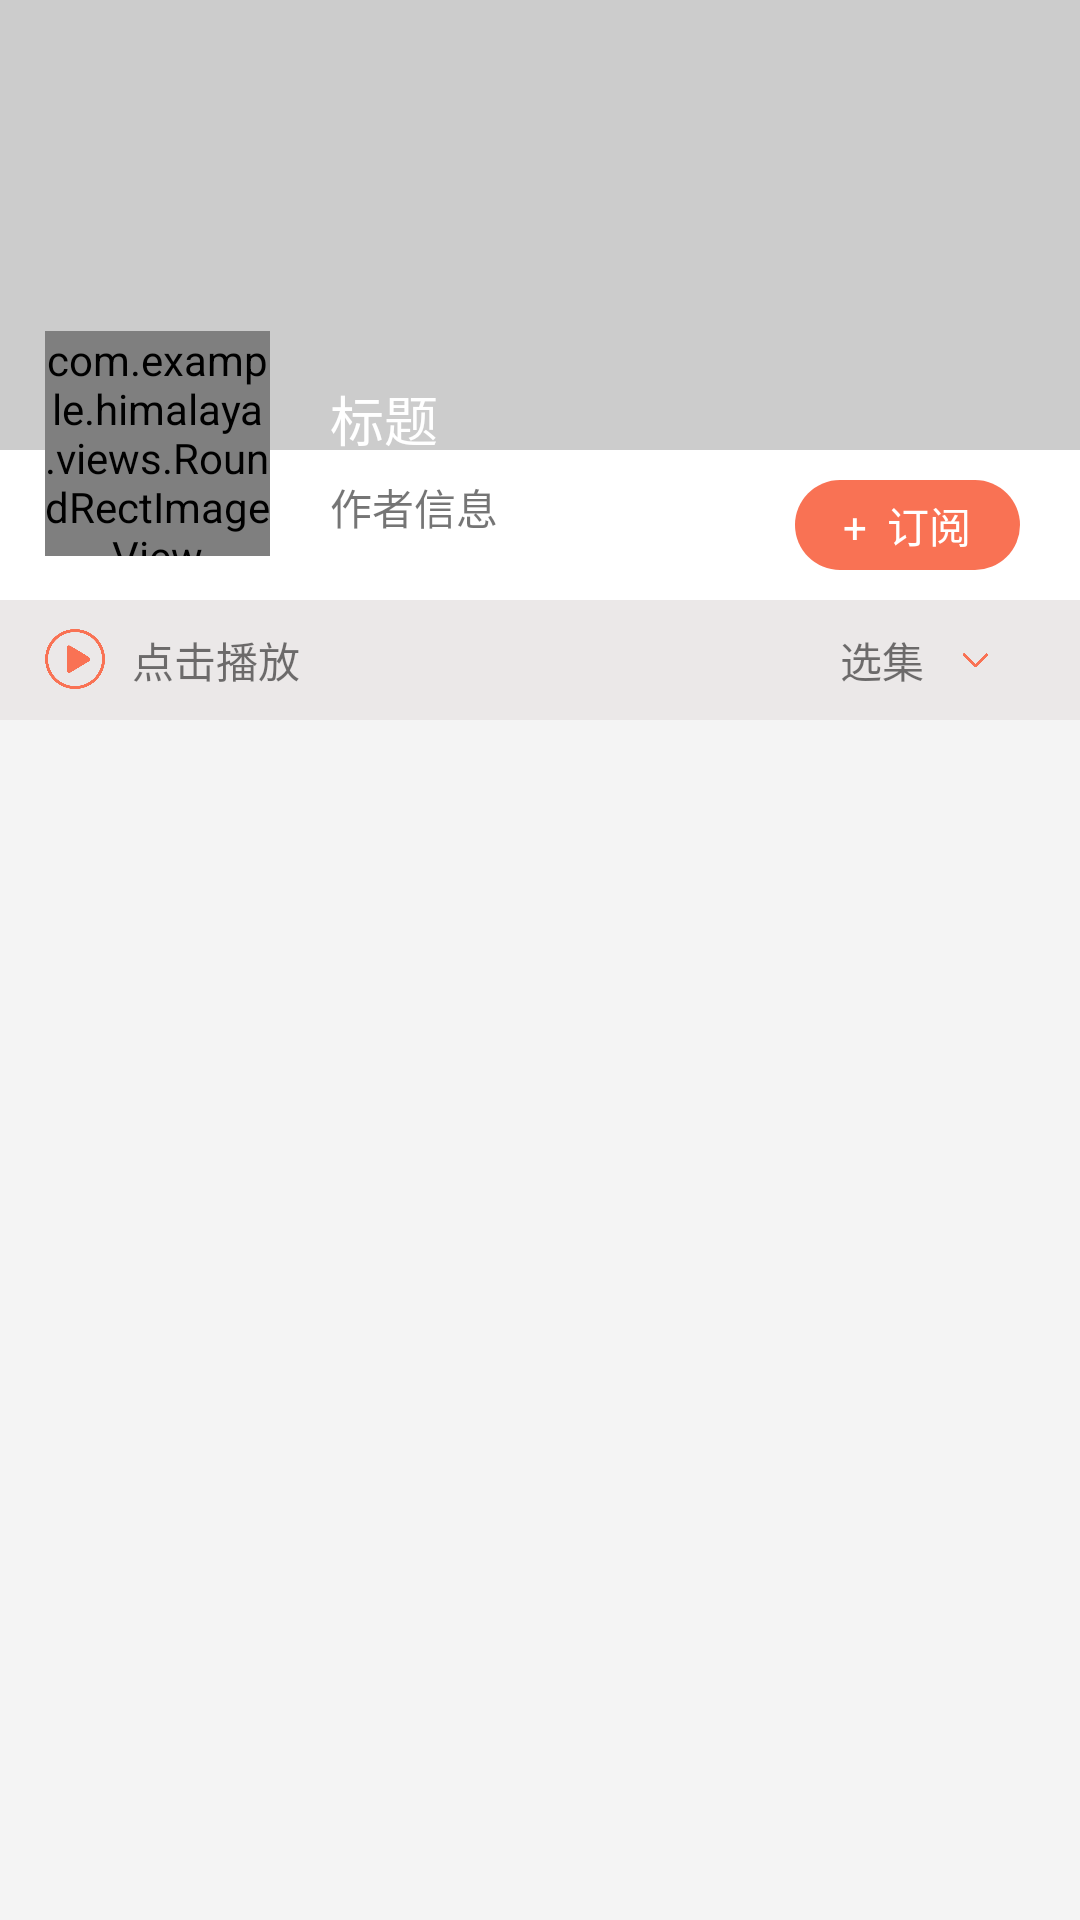

Screen size 1080 x 1920. Icon name, then its center in pixels as point (x, y):
is pause: point (75, 659)
pull: point (975, 660)
